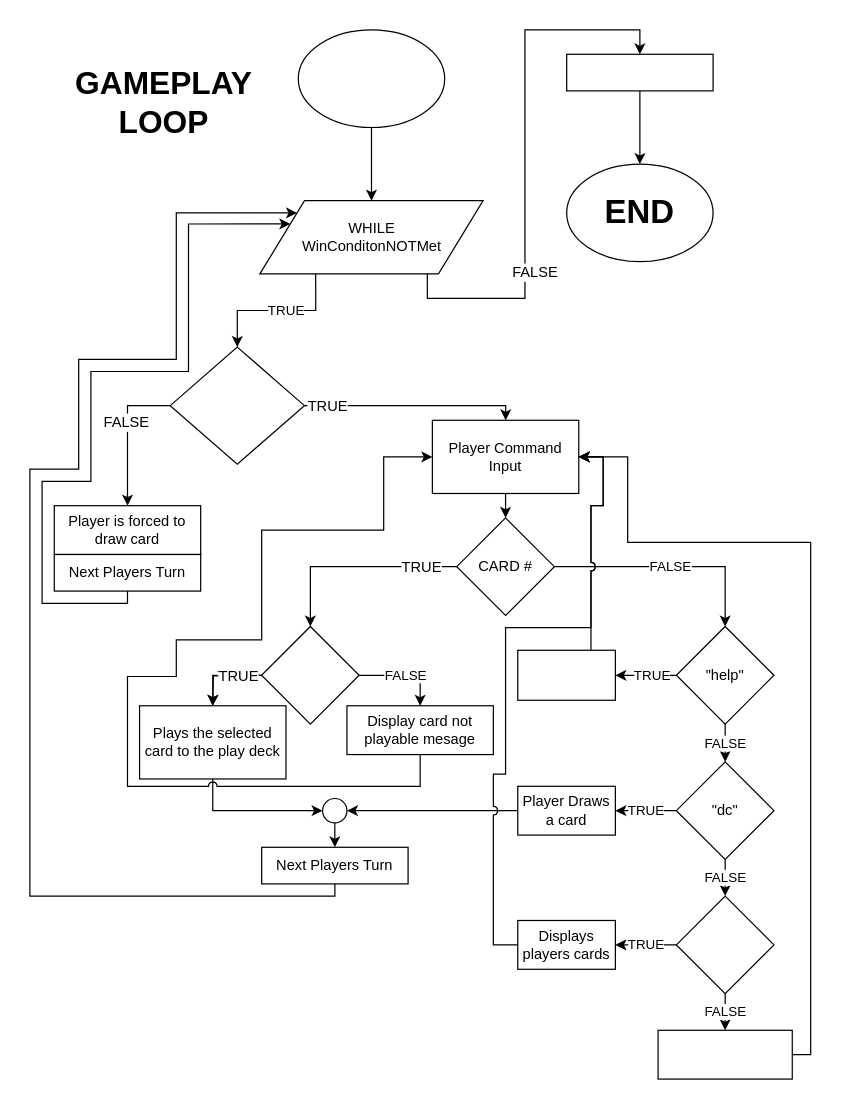
This 842x1100 diagram has some shape labels left out. Each missing label, with the centre of its shape:
"vc": the point at 724,944
Card is playable: the point at 309,674
Display unvalid command mesage: the point at 724,1054
Displays help message: the point at 566,674
Displays Win Message: the point at 639,72
IF Any Cards are Playable: the point at 236,405
START: the point at 371,78
